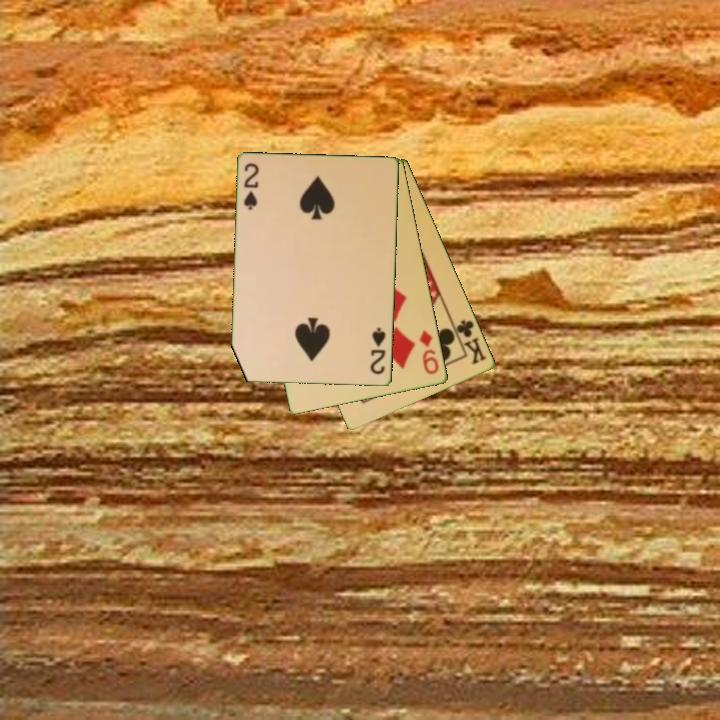2s: (367, 324, 389, 377), (240, 160, 262, 213)
9d: (416, 327, 442, 378)
Kc: (449, 316, 490, 368)
